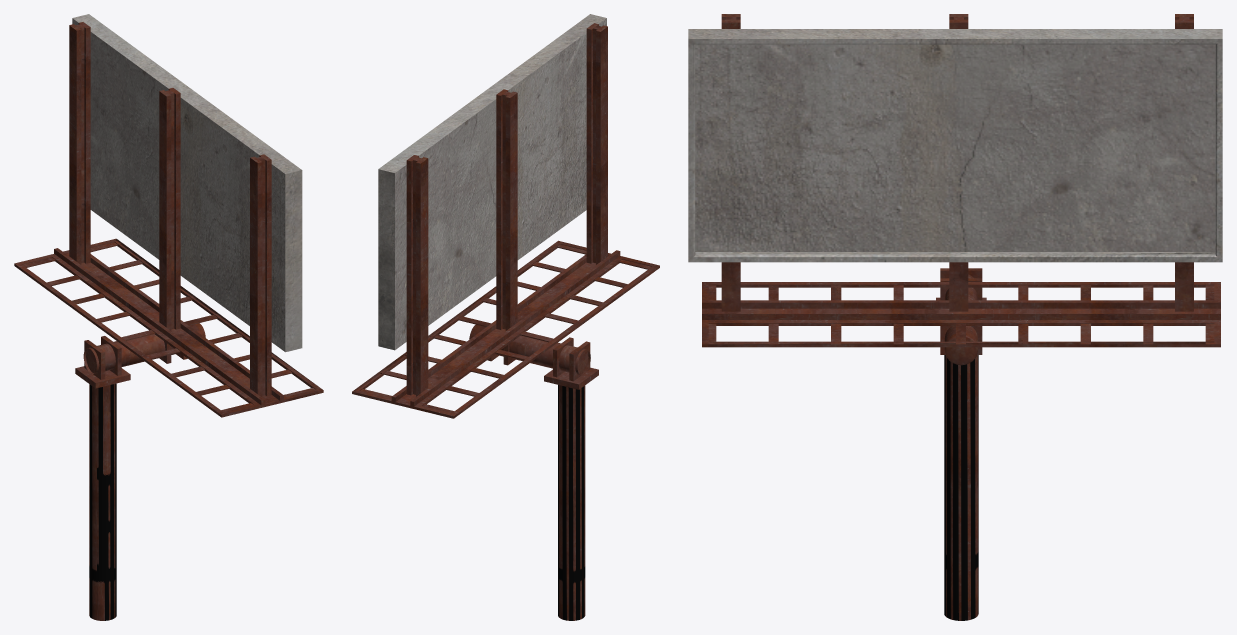
The model's file is Billboard.fbx.
3 views of the same model, side by side, from view 1: azimuth 30°, elevation 25°; view 2: azimuth 150°, elevation 25°; view 3: azimuth 270°, elevation 25° (orthographic). The views are drawn at different scales.
Parts seen in each view (by area): view 1: prepare_for_future!; view 2: prepare_for_future!; view 3: prepare_for_future!.
Part boxes in pixels (left/top/right/bottom): prepare_for_future!: left=14, top=14, right=323, bottom=620; prepare_for_future!: left=352, top=14, right=659, bottom=620; prepare_for_future!: left=688, top=14, right=1222, bottom=620.
Size of the model in its own units: 139 by 502 by 382.
Materials: 2 (2 with a texture image).
